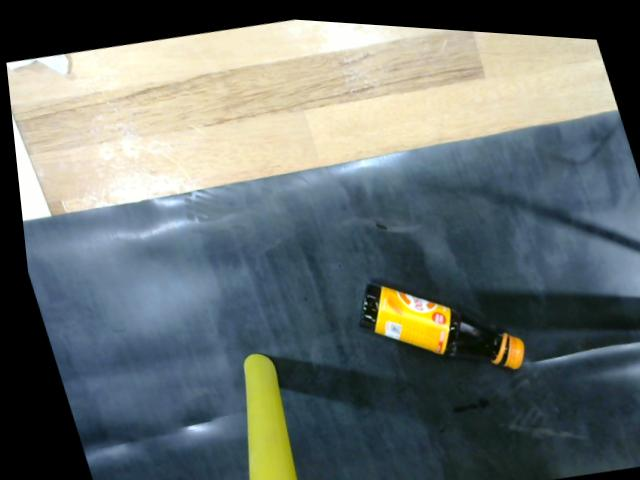glass: (342, 274, 531, 372)
